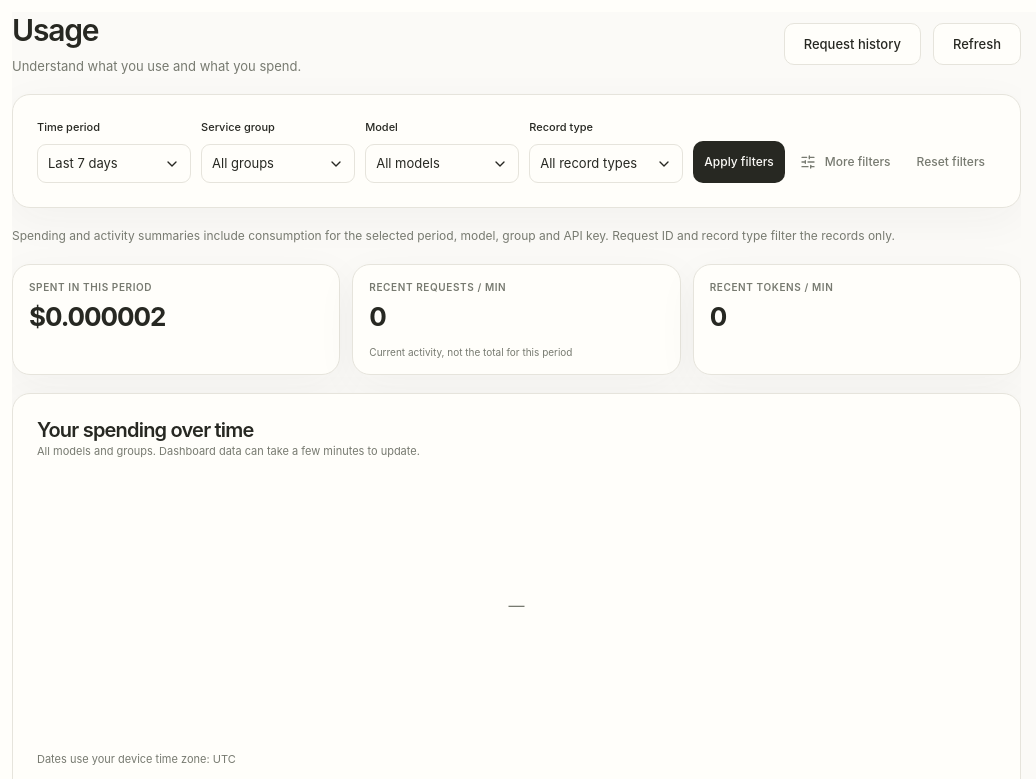
it: includes failures in the default history and exposes a persistent record-type filter
Click the dropdown labelled "record type": (606,164) [529,144,683,183]
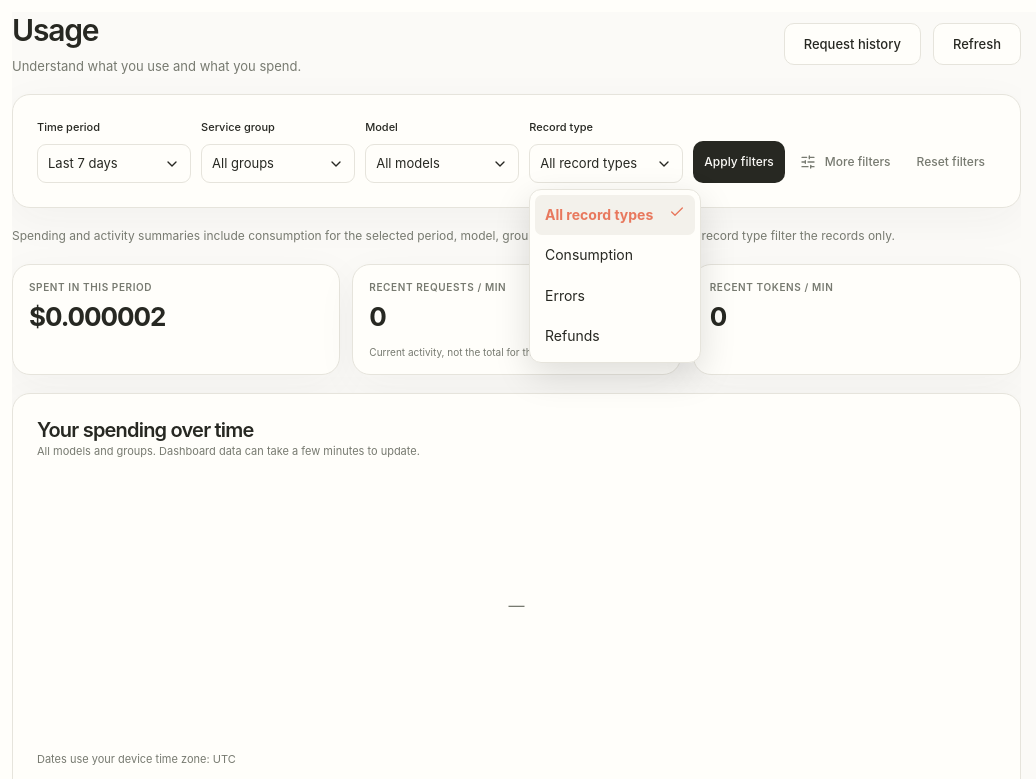
Click the option "Errors": (565,295) [545,287,585,304]
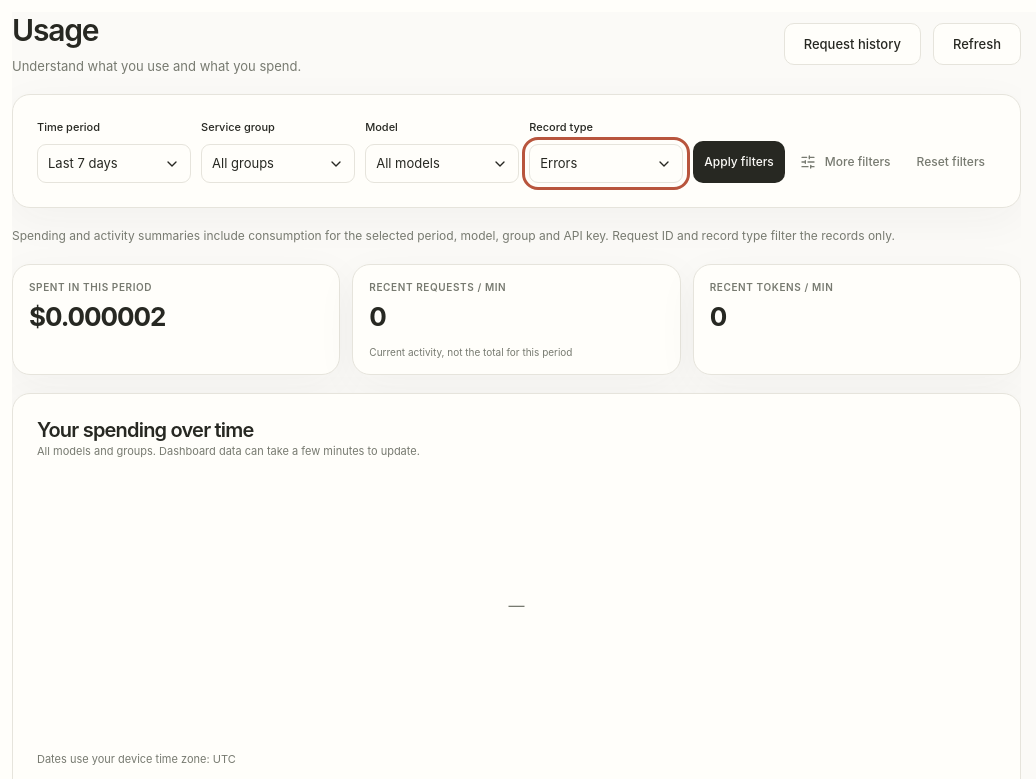
Click the button "Apply filters": (739,162) [693,141,785,183]
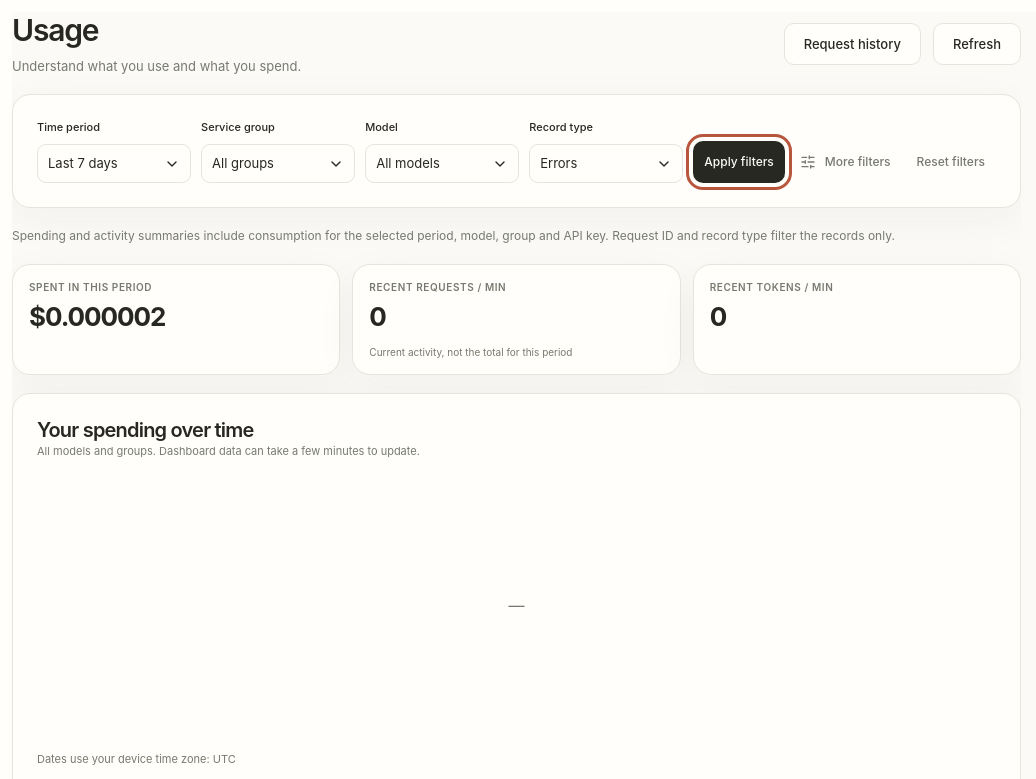
Click the button "Reset filters": (951,162) [906,141,996,183]
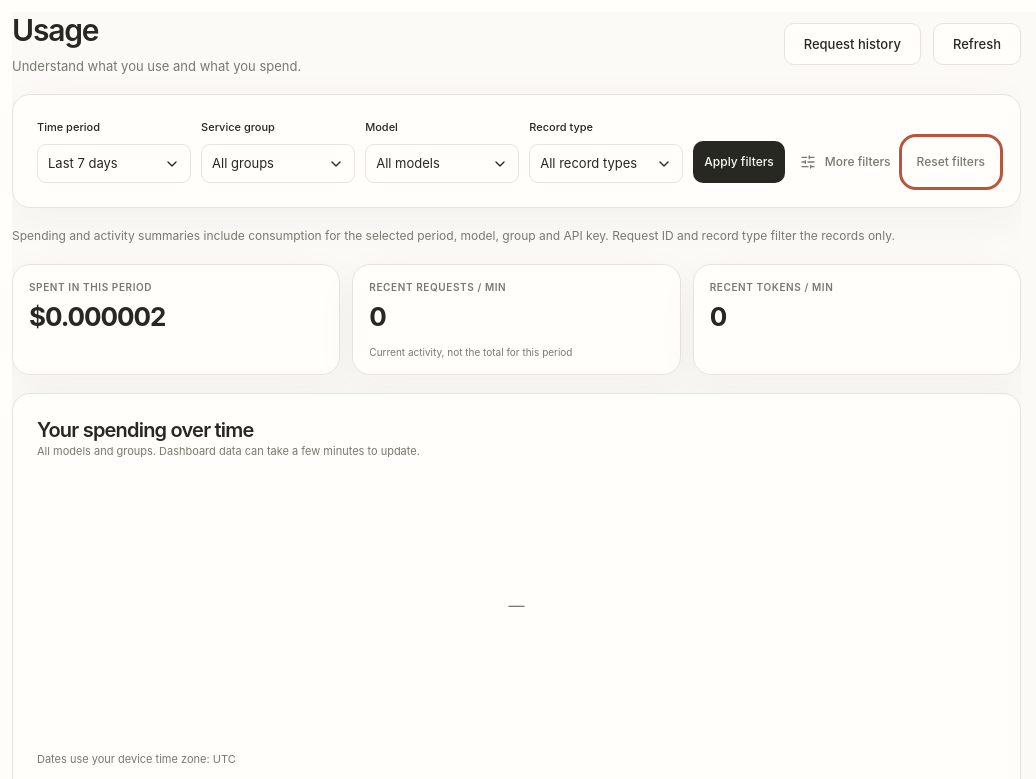
Expected: the dropdown labelled "record type" reads "All record types", [529,144,683,183]
